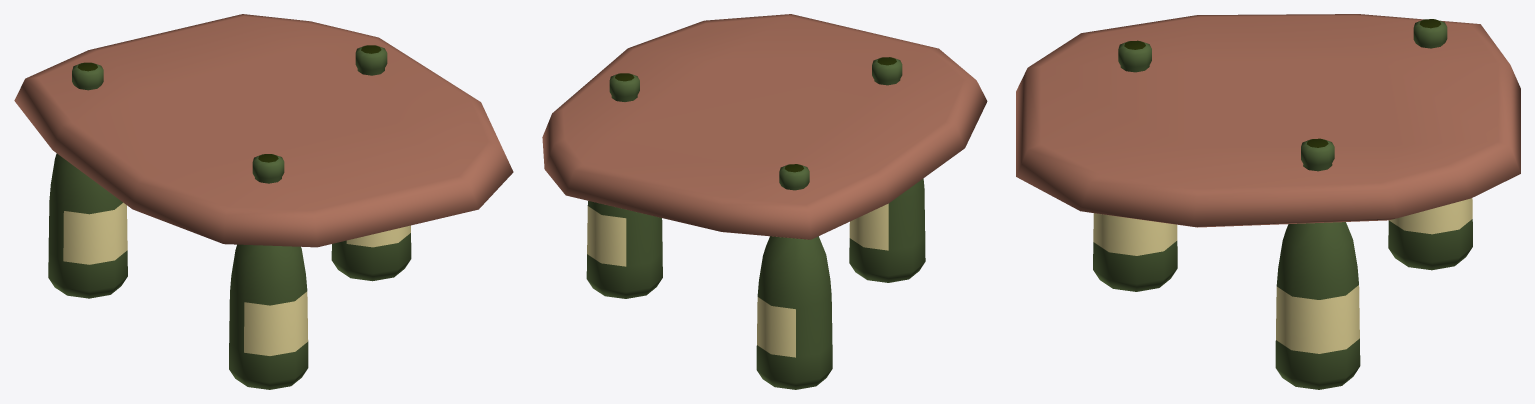
File: table.fbx
3 renders of one model, left to right at view 1: azimuth 30°, elevation 25°; view 2: azimuth 150°, elevation 25°; view 3: azimuth 270°, elevation 25°, orthographic. The views are drawn at different scales.
Visible parts, largest first — view 1: Cube.012; view 2: Cube.012; view 3: Cube.012.
Boxes of the visible parts, <box> form: Cube.012: <box>14,14,513,389</box>; Cube.012: <box>542,14,987,389</box>; Cube.012: <box>1016,14,1520,389</box>.
Bounding box in the file's own units: 127 × 73.42 × 145.
